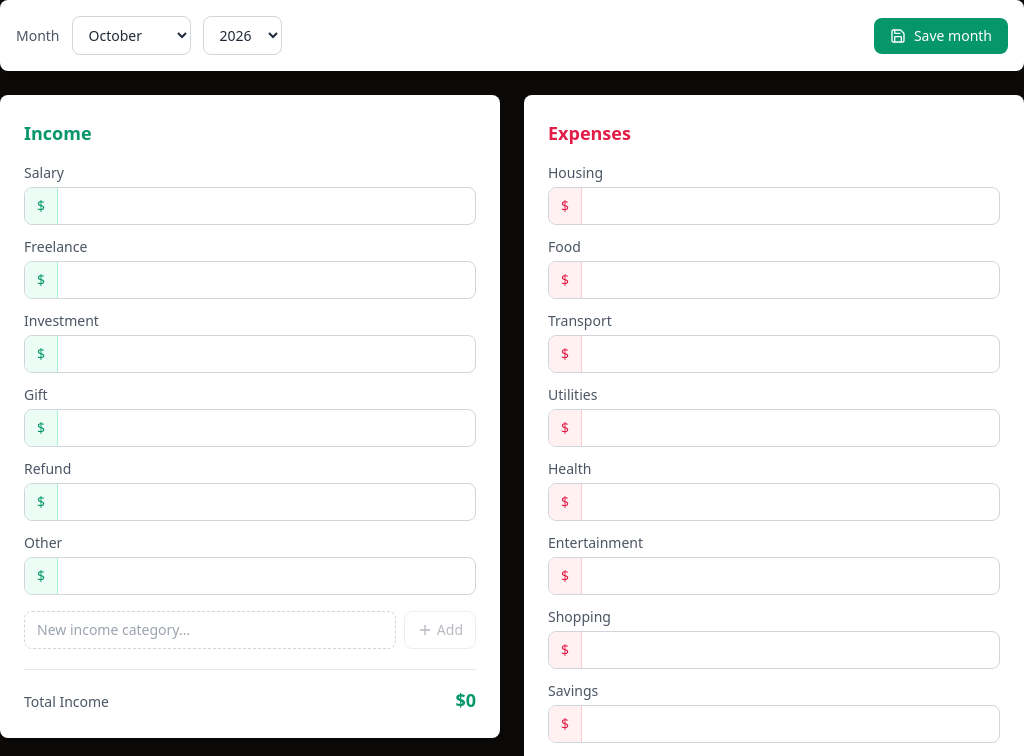
Test: MonthlyEntryPanel › computes running section totals and net from typed amounts
In the field labelled "Salary": (266, 206) [58, 188, 475, 224], type "3000"
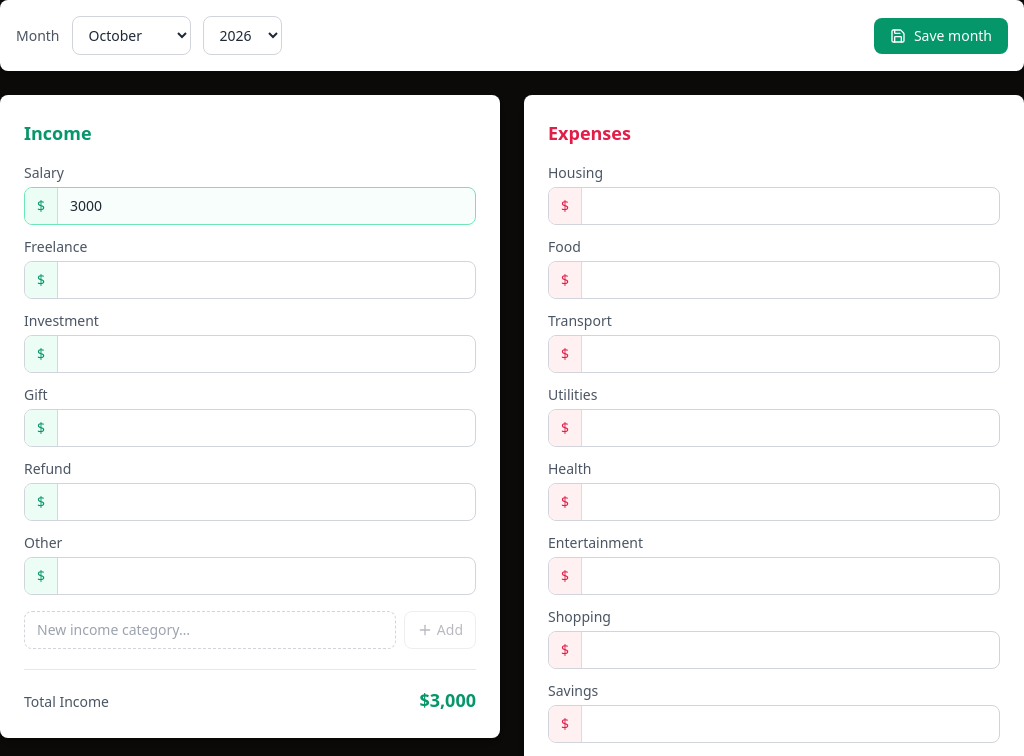
In the field labelled "Food": (790, 280) [582, 262, 999, 298], type "400"
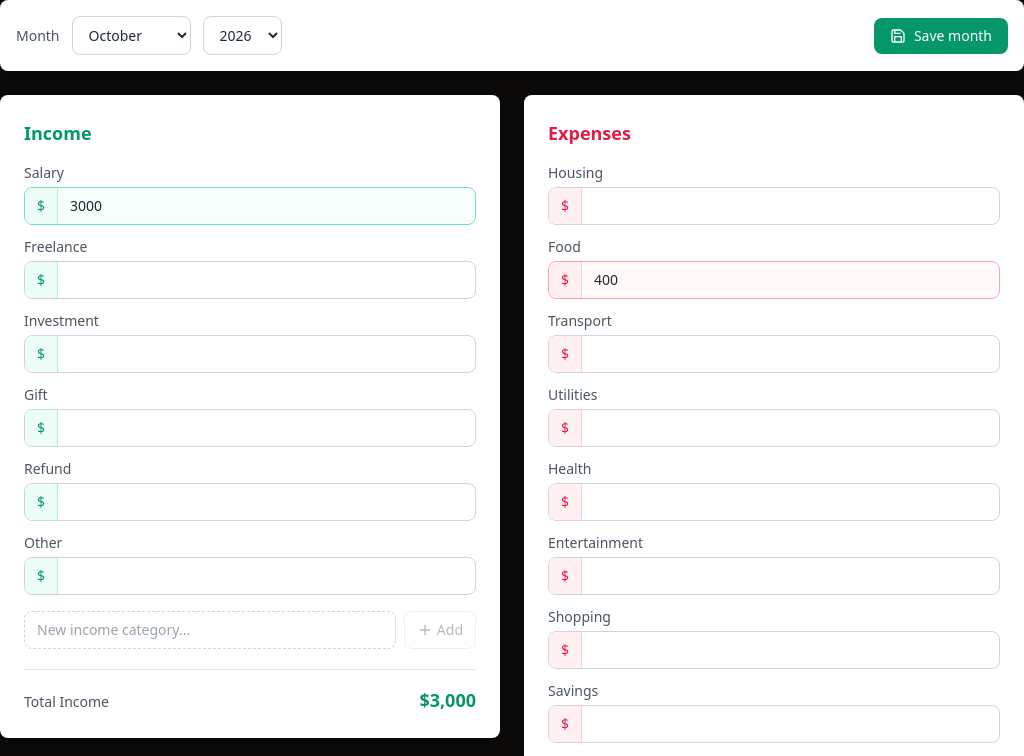
In the field labelled "Housing": (790, 206) [582, 188, 999, 224], type "600"
(page scrolled)
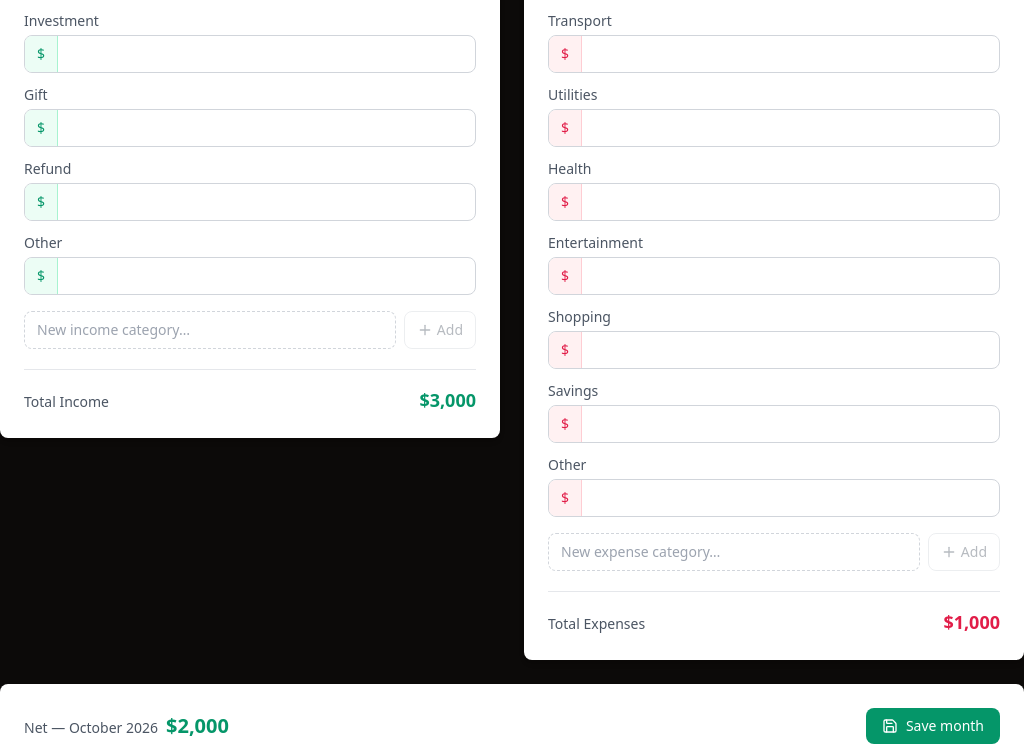
expect the text "$2,000" is shown: met, box [166, 712, 229, 740]
expect the text "$1,000" is shown: met, box [943, 608, 1000, 636]
